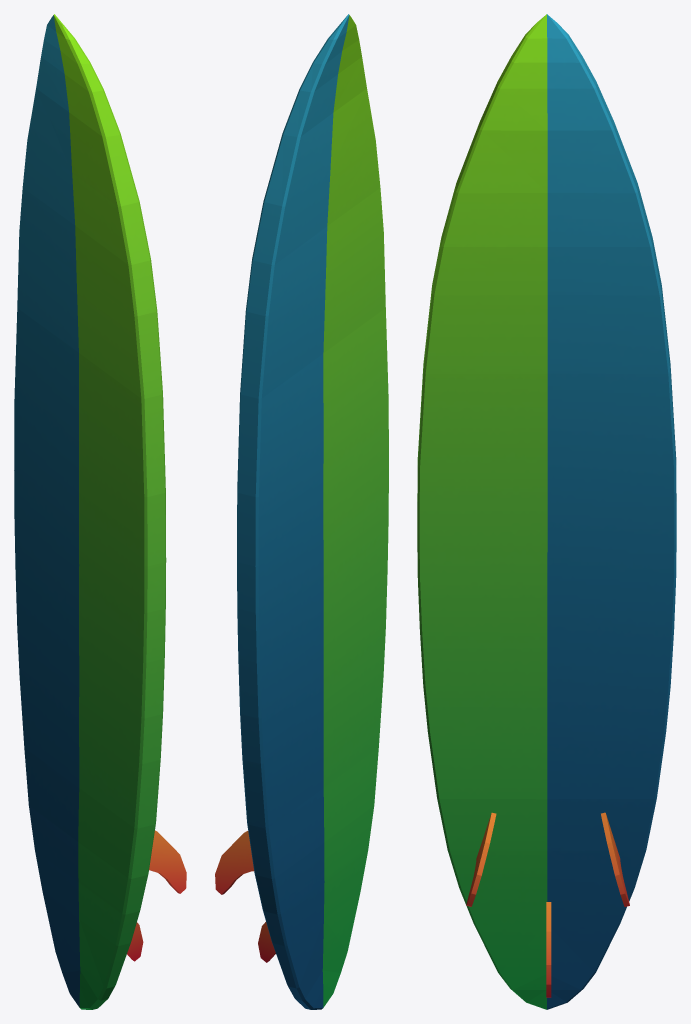
Rendered from ENV_Surfboard2.fbx.
3 views of the same model, side by side, from view 1: azimuth 30°, elevation 25°; view 2: azimuth 150°, elevation 25°; view 3: azimuth 270°, elevation 25° (orthographic). The views are drawn at different scales.
Parts seen in each view (by area): view 1: ENV_Surfboard2; view 2: ENV_Surfboard2; view 3: ENV_Surfboard2.
Part boxes in pixels (bbox=[...]): ENV_Surfboard2: bbox=[14, 14, 186, 1009]; ENV_Surfboard2: bbox=[215, 14, 388, 1009]; ENV_Surfboard2: bbox=[417, 14, 676, 1009].
Size of the model in its own units: 0.2786 by 2.82 by 0.6768.
